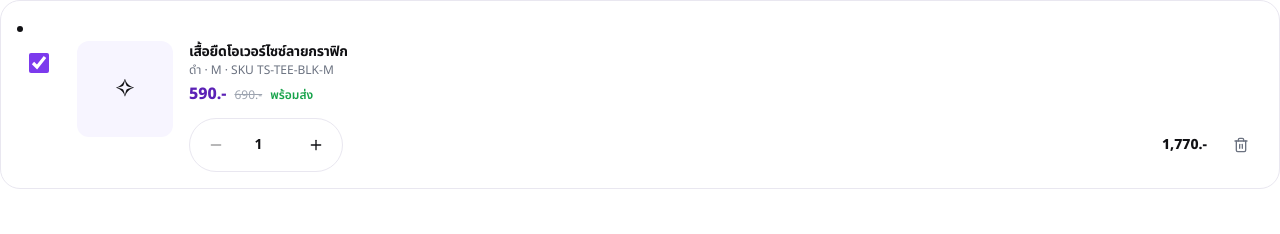
Scenario: CartItemRow — ข้อความที่ผู้ใช้ต้องเห็น (STEP 37) › API ปฏิเสธ ต้องแสดงข้อความจาก server ไม่ใช่ข้อความกลาง
Click the button named "เพิ่มจำนวน".
click(316, 145)  # box [294,123,338,167]
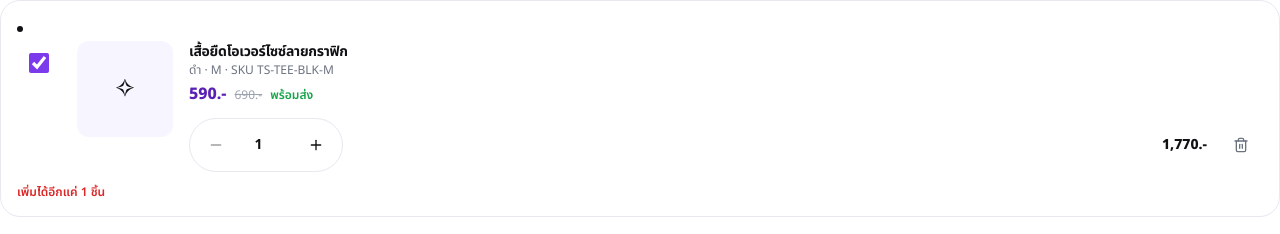
Result: the text "เพิ่มได้อีกแค่ 1 ชิ้น" is shown at [17,183,105,201]
